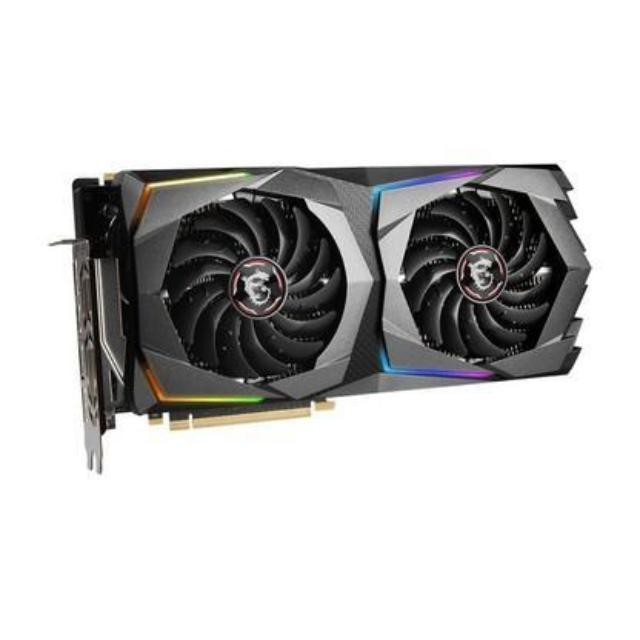GPU: (62, 147, 600, 436)
